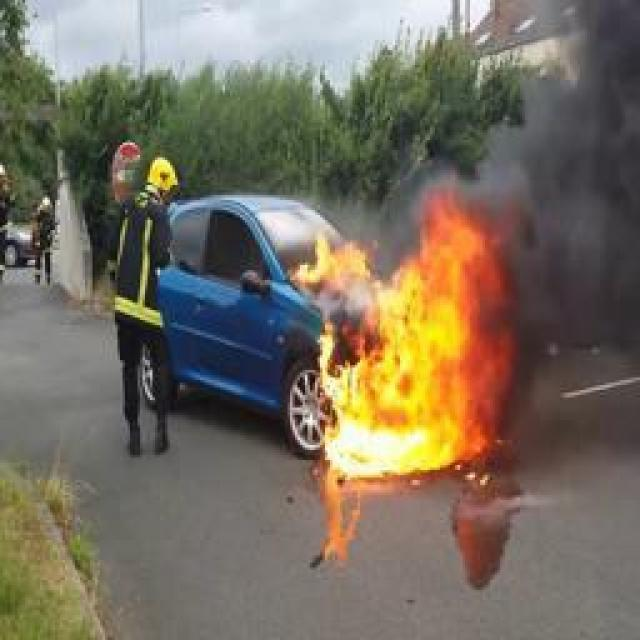Fire: (318, 188, 522, 480), (292, 235, 370, 288)
